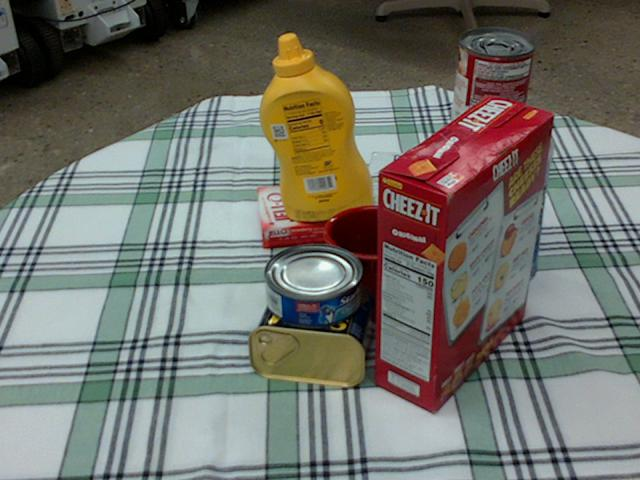cracker_box: (375, 96, 554, 412)
gelatin_box: (257, 185, 328, 250)
master_chef_can: (436, 118, 553, 291)
mug: (323, 207, 445, 324)
mustard_bottle: (258, 34, 372, 221)
potted_meat_can: (251, 276, 379, 385)
sugar_box: (346, 150, 446, 264)
tomato_soup_can: (448, 29, 533, 159)
tuna_fish_can: (264, 244, 363, 328)
